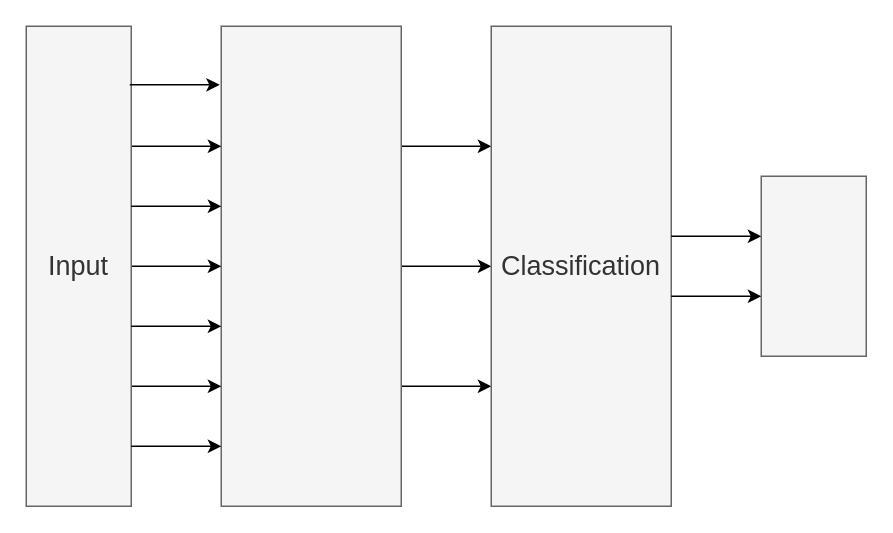
This 893x533 diagram has some shape labels left out. Here are the shapes that lost their labels. From the top down, the centre of each, then its label:
(310,265): Feature Extraction
(813,265): Output
